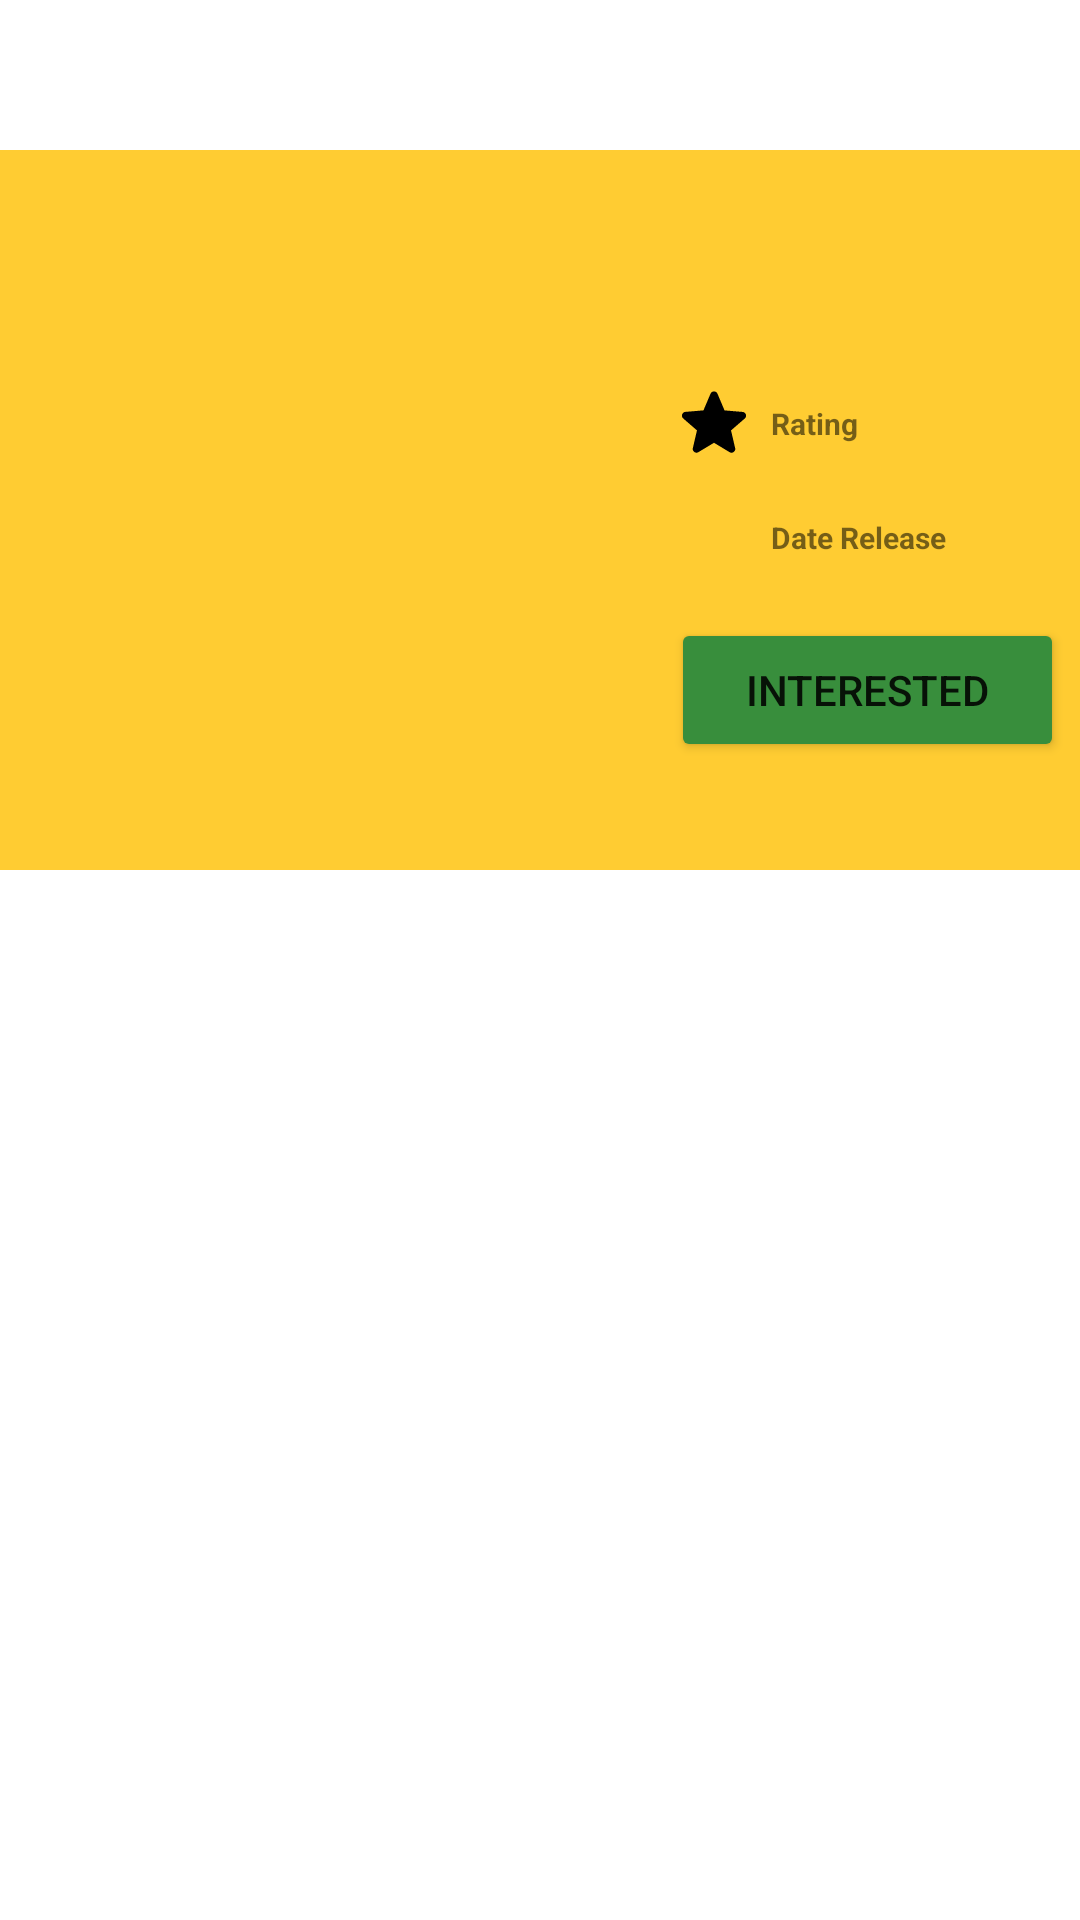

Locate icon controls on the screen. Image size 1080×1920, boxes as (x1, y1, x2, y2).
star: (682, 391, 746, 453)
